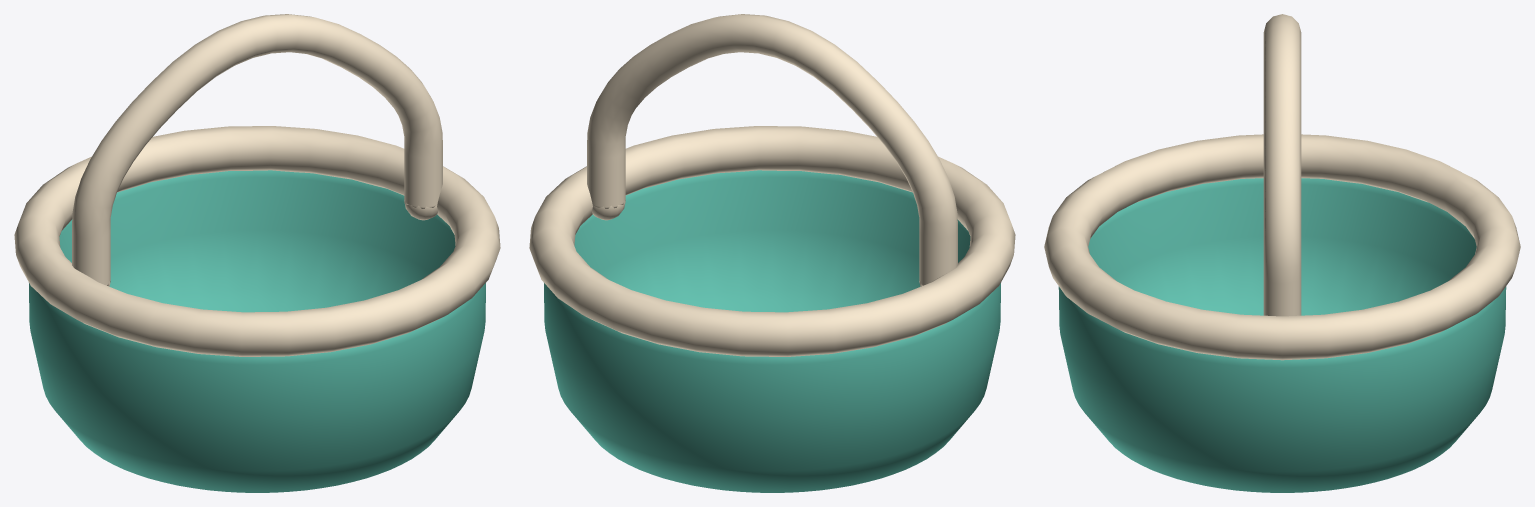
File: basket_a.glb
The picture shows the model from 3 angles, left to right: view 1: azimuth 30°, elevation 25°; view 2: azimuth 150°, elevation 25°; view 3: azimuth 270°, elevation 25°; orthographic projection. The views are drawn at different scales.
Visible parts, largest first — view 1: body; view 2: body; view 3: body.
Part boxes in pixels (x1,y1,x2,y2): body: [14, 14, 500, 492]; body: [529, 14, 1015, 492]; body: [1044, 14, 1520, 492].
Bounding box in the file's own units: 0.3024 × 0.282 × 0.3024.
